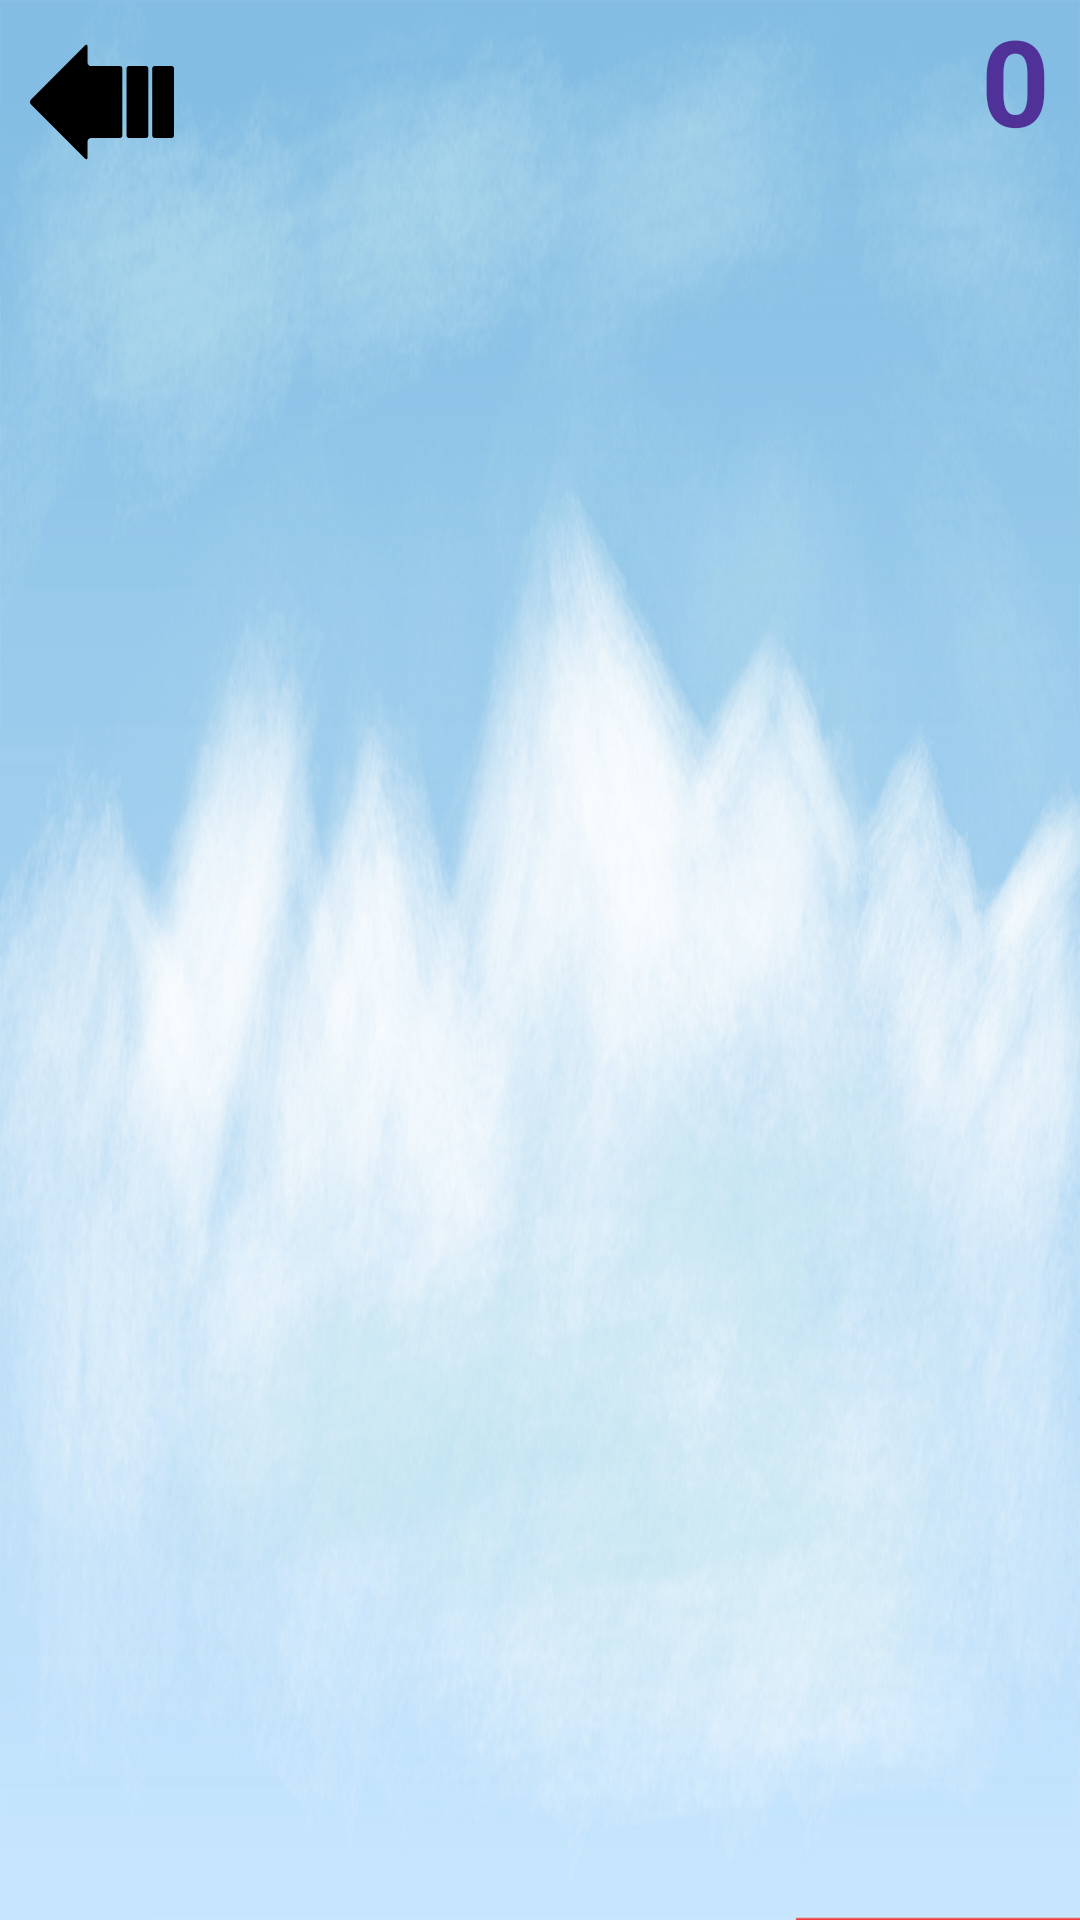

Locate icon controls on the screen. Image size 1080×1920, boxes as (x1, y1, x2, y2).
back arrow: (30, 44, 174, 174)
